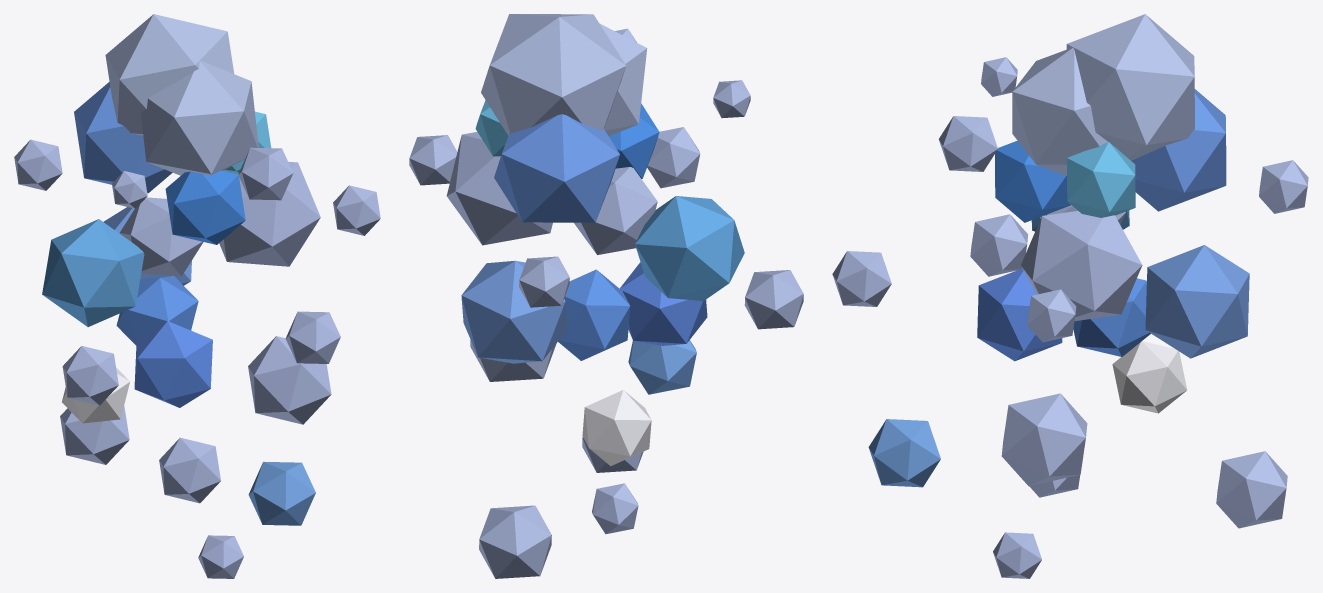
Rendered from RocketTrail.fbx.
3 views of the same model, side by side, from view 1: azimuth 30°, elevation 25°; view 2: azimuth 150°, elevation 25°; view 3: azimuth 270°, elevation 25° (orthographic). The views are drawn at different scales.
Parts seen in each view (by area): view 1: Icosphere, Icosphere.001, Icosphere.014, Icosphere.013, Icosphere.009, Icosphere.003, Icosphere.018, Icosphere.002, Icosphere.007, Icosphere.020, Icosphere.010, Icosphere.011 (+11 smaller); view 2: Icosphere.001, Icosphere.003, Icosphere.014, Icosphere.008, Icosphere.013, Icosphere.010, Icosphere.019, Icosphere.009, Icosphere.007, Icosphere.022, Icosphere.015, Icosphere.020 (+10 smaller); view 3: Icosphere.001, Icosphere.013, Icosphere.008, Icosphere, Icosphere.003, Icosphere.018, Icosphere.009, Icosphere.019, Icosphere.004, Icosphere.002, Icosphere.022, Icosphere.020 (+9 smaller).
Boxes of the visible parts, <box> form: Icosphere: <box>140,61,258,175</box>; Icosphere.001: <box>105,14,234,135</box>; Icosphere.014: <box>42,219,144,326</box>; Icosphere.013: <box>219,161,320,266</box>; Icosphere.009: <box>134,321,212,407</box>; Icosphere.003: <box>74,82,172,193</box>; Icosphere.018: <box>248,336,331,424</box>; Icosphere.002: <box>165,170,245,244</box>; Icosphere.007: <box>119,197,203,276</box>; Icosphere.020: <box>248,461,315,525</box>; Icosphere.010: <box>116,275,198,345</box>; Icosphere.011: <box>159,437,220,503</box>; Icosphere.001: <box>481,14,625,135</box>; Icosphere.003: <box>494,114,619,222</box>; Icosphere.014: <box>635,196,744,300</box>; Icosphere.008: <box>461,260,567,363</box>; Icosphere.013: <box>446,132,552,245</box>; Icosphere.010: <box>558,269,630,360</box>; Icosphere.019: <box>479,505,551,578</box>; Icosphere.009: <box>619,262,707,345</box>; Icosphere.007: <box>574,167,657,254</box>; Icosphere.022: <box>582,390,651,466</box>; Icosphere.015: <box>744,270,803,329</box>; Icosphere.020: <box>628,340,696,394</box>; Icosphere.001: <box>1066,14,1194,160</box>; Icosphere.013: <box>1021,211,1142,320</box>; Icosphere.008: <box>1145,245,1249,358</box>; Icosphere: <box>1012,48,1116,175</box>; Icosphere.003: <box>1131,89,1226,211</box>; Icosphere.018: <box>1001,393,1087,486</box>; Icosphere.009: <box>977,268,1062,361</box>; Icosphere.019: <box>1216,451,1287,528</box>; Icosphere.004: <box>1067,142,1135,217</box>; Icosphere.002: <box>995,140,1070,222</box>; Icosphere.022: <box>1112,341,1187,413</box>; Icosphere.020: <box>868,419,940,487</box>.
Size of the model in its own units: 362 by 534 by 412.
